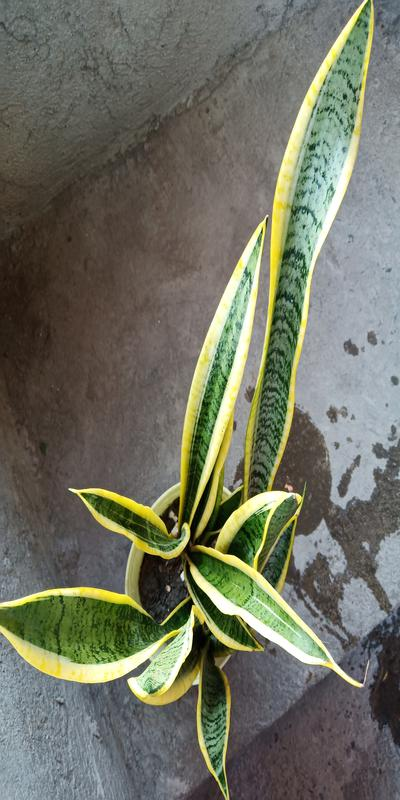Snake plant: (25, 22, 382, 750)
